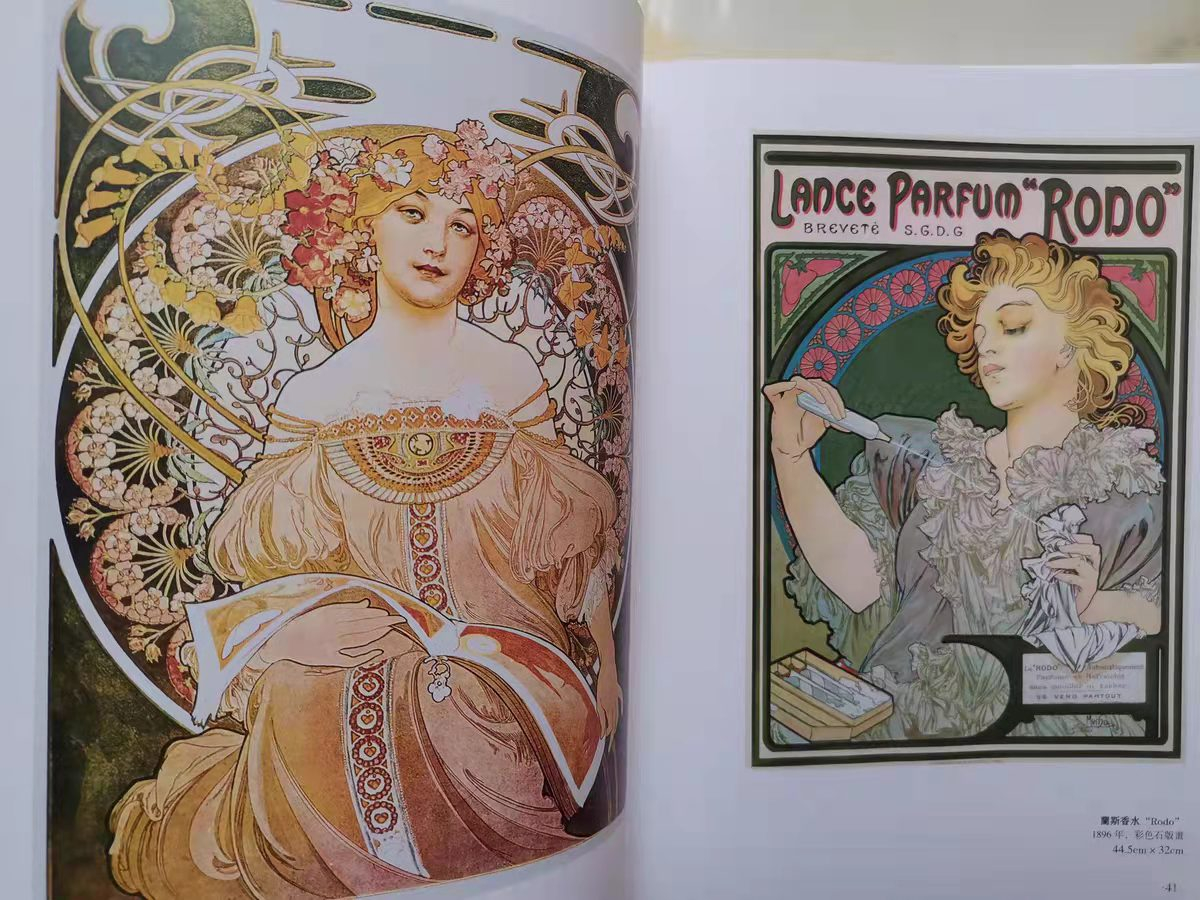book: (2, 4, 1200, 900)
